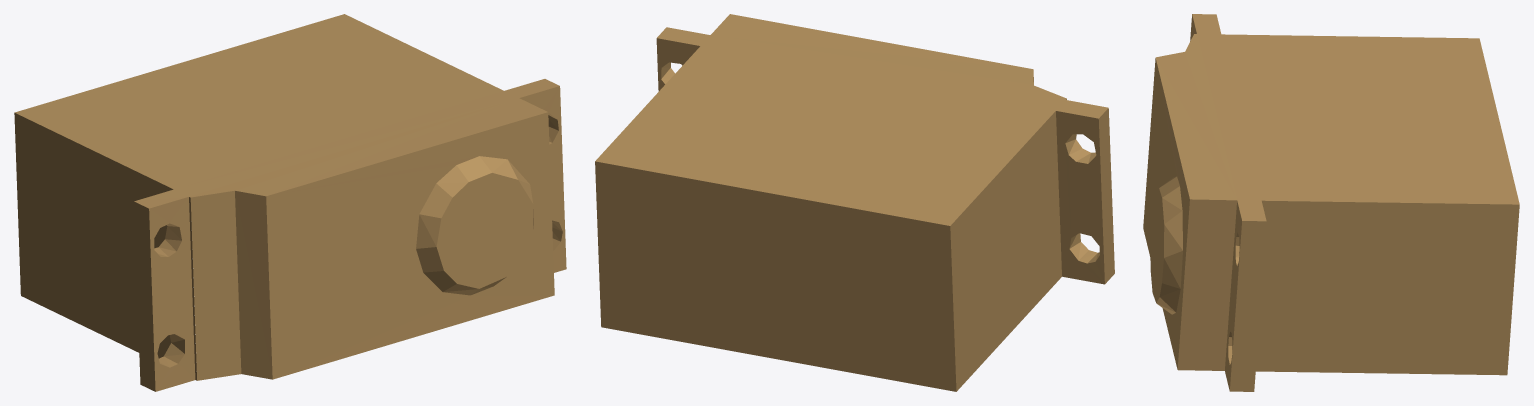
The model's file is torso_z_link_visual_1.obj.light.glb.
3 renders of one model, left to right at view 1: azimuth 30°, elevation 25°; view 2: azimuth 150°, elevation 25°; view 3: azimuth 270°, elevation 25°, orthographic. The views are drawn at different scales.
Bounding box in the file's own units: 0.7045 × 0.3083 × 0.5469.
